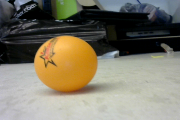PingPongBall: (34, 35, 97, 93)
